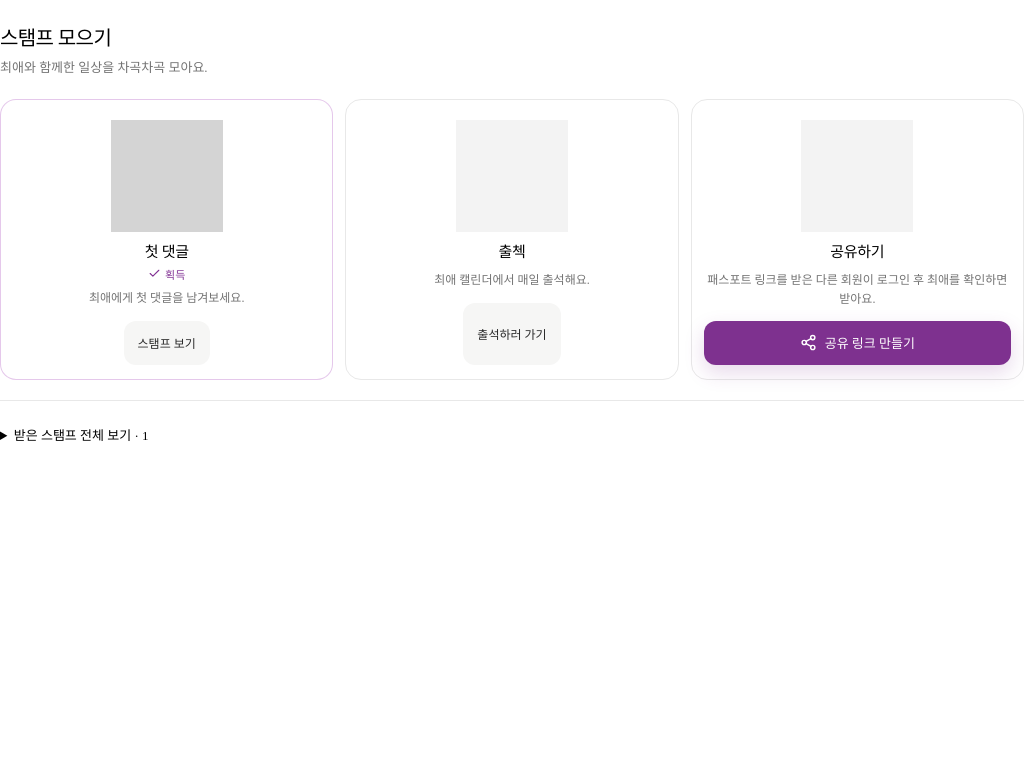
distinguishes the permanent_failure registration status from the earned Stamp
The width and height of the screenshot is (1024, 768).
Click the button "스탬프 보기".
click(167, 343)  # box [124,321,210,365]
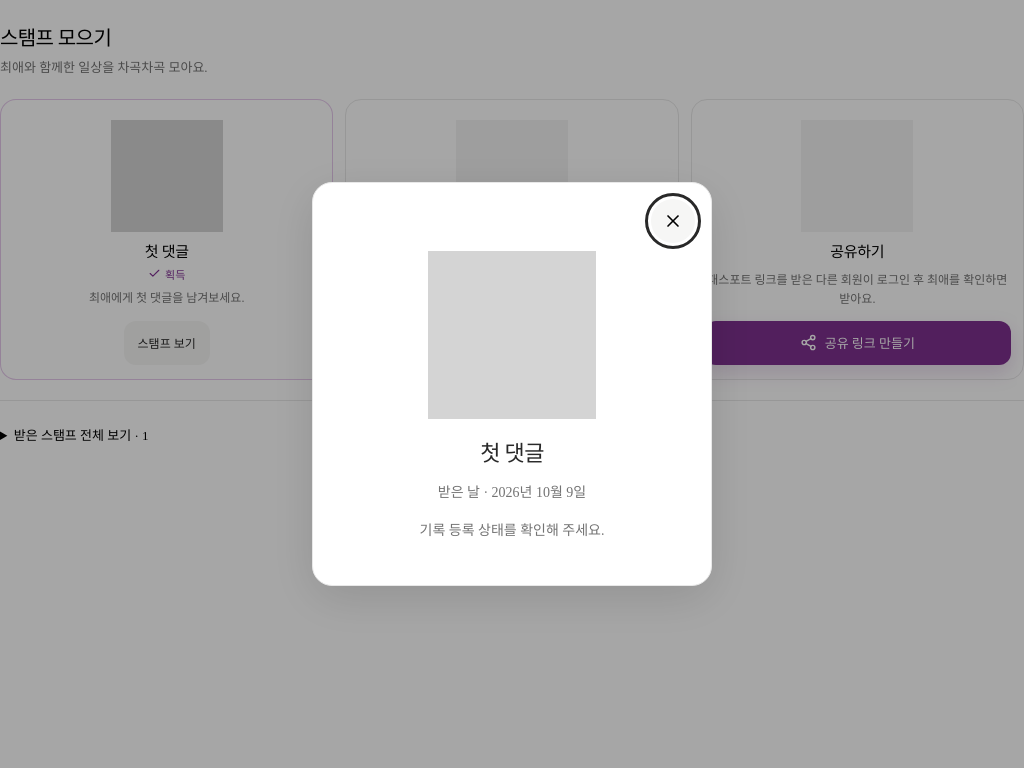
Expected: the text "기록 등록 상태를 확인해 주세요." is shown, [420,523,604,538]
